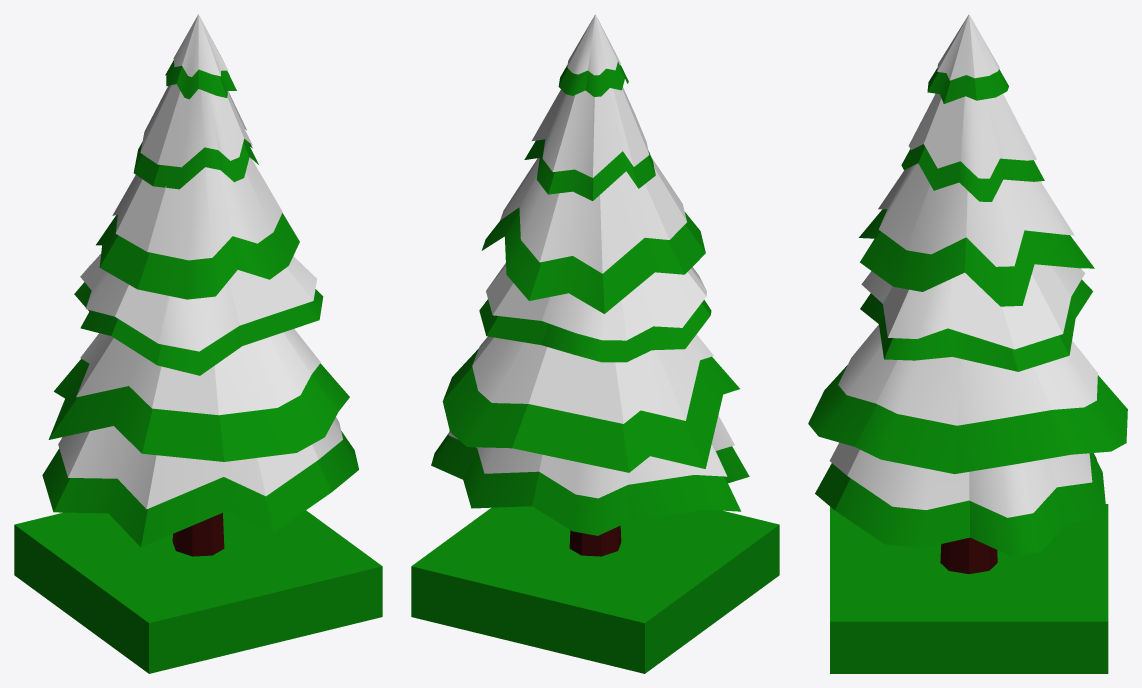
Rendered from ki(yuki)1.fbx.
The picture shows the model from 3 angles, left to right: view 1: azimuth 30°, elevation 25°; view 2: azimuth 150°, elevation 25°; view 3: azimuth 270°, elevation 25°; orthographic projection. The views are drawn at different scales.
Visible parts, largest first — view 1: pCube1, pCylinder4, pCylinder12, pCylinder2, pCylinder10, pCylinder11, pCylinder13, pCylinder7, pCylinder9, pCylinder6, pCylinder3, pCylinder8 (+2 smaller); view 2: pCube1, pCylinder4, pCylinder12, pCylinder2, pCylinder10, pCylinder7, pCylinder11, pCylinder9, pCylinder13, pCylinder6, pCylinder3, pCylinder8 (+2 smaller); view 3: pCube1, pCylinder4, pCylinder12, pCylinder2, pCylinder10, pCylinder11, pCylinder13, pCylinder7, pCylinder9, pCylinder6, pCylinder3, pCylinder8 (+2 smaller).
Boxes of the visible parts, x1,y1,x2,y2 form: pCube1: (14, 510, 382, 673); pCylinder4: (48, 359, 349, 461); pCylinder12: (76, 329, 320, 415); pCylinder2: (42, 431, 358, 547); pCylinder10: (112, 157, 282, 260); pCylinder11: (80, 253, 316, 351); pCylinder13: (58, 417, 342, 509); pCylinder7: (96, 213, 299, 299); pCylinder9: (140, 84, 252, 167); pCylinder6: (74, 282, 323, 375); pCylinder3: (133, 139, 258, 189); pCylinder8: (173, 14, 227, 76); pCube1: (411, 506, 779, 673); pCylinder4: (442, 348, 739, 472); pCylinder12: (472, 334, 713, 423); pCylinder2: (431, 433, 749, 535); pCylinder10: (500, 157, 686, 273); pCylinder7: (481, 207, 705, 313); pCylinder11: (486, 263, 706, 340); pCylinder9: (531, 87, 649, 177); pCylinder13: (448, 415, 734, 498); pCylinder6: (479, 299, 711, 362); pCylinder3: (524, 139, 655, 200); pCylinder8: (567, 14, 620, 75); pCube1: (830, 504, 1108, 673); pCylinder4: (808, 365, 1127, 474); pCylinder12: (838, 324, 1097, 425); pCylinder2: (815, 453, 1106, 556); pCylinder10: (878, 163, 1074, 266); pCylinder11: (861, 264, 1085, 349); pCylinder13: (829, 442, 1092, 517); pCylinder7: (859, 209, 1094, 306); pCylinder9: (908, 93, 1036, 178); pCylinder6: (860, 279, 1092, 371); pCylinder3: (901, 144, 1044, 201); pCylinder8: (937, 14, 999, 80).
Bounding box in the file's own units: 2.33 × 4.55 × 2.2.
